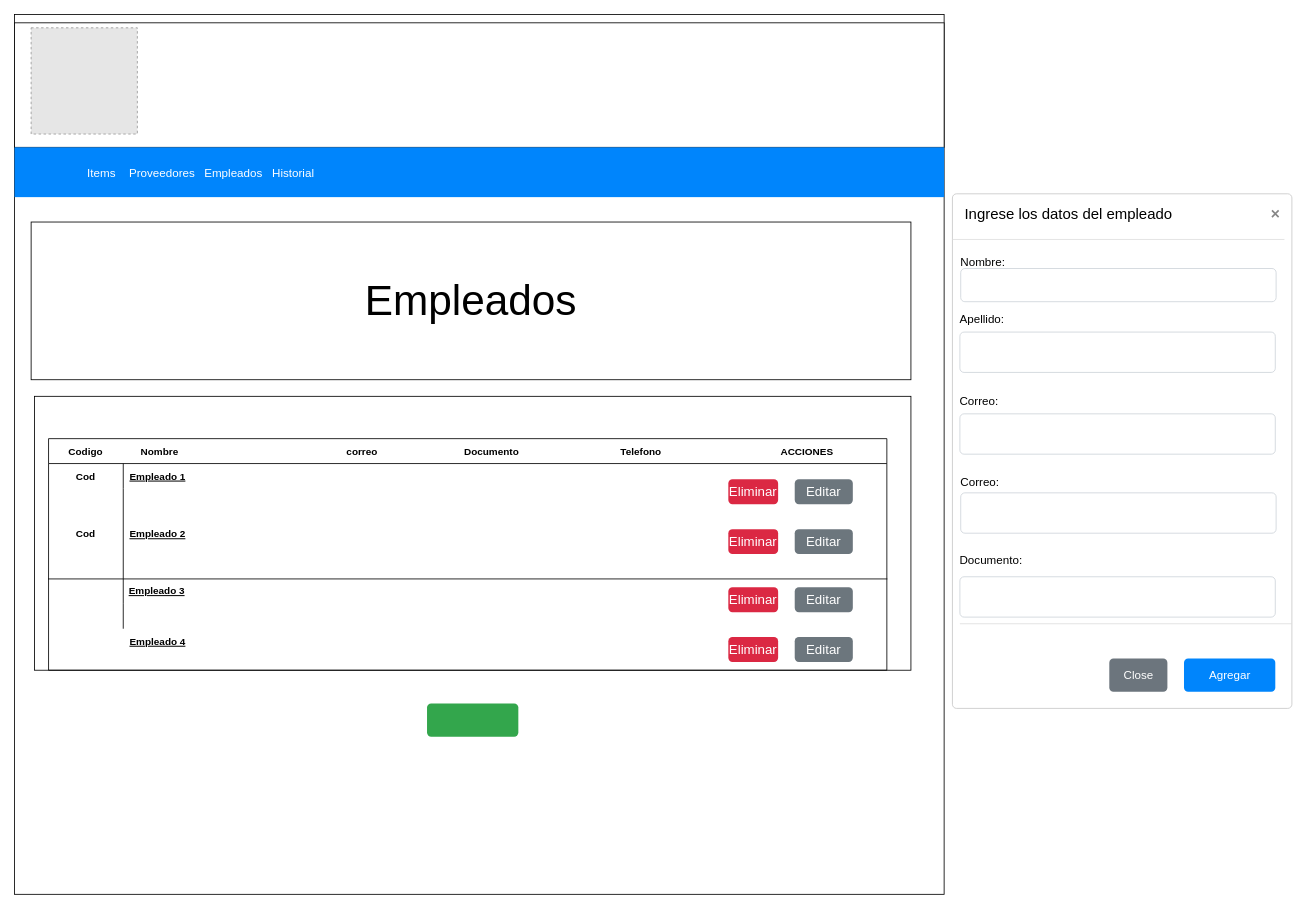
The diagram is 1306 pixels wide and 909 high, and some of its shapes have lost their labels. Grey dashed boxes stand in for pictures. Here are the shapes that lost their labels. From the top down, the centre of each, then its label:
At [479,172]: "Inicio".
At [472,719]: "[+] Empleado".
